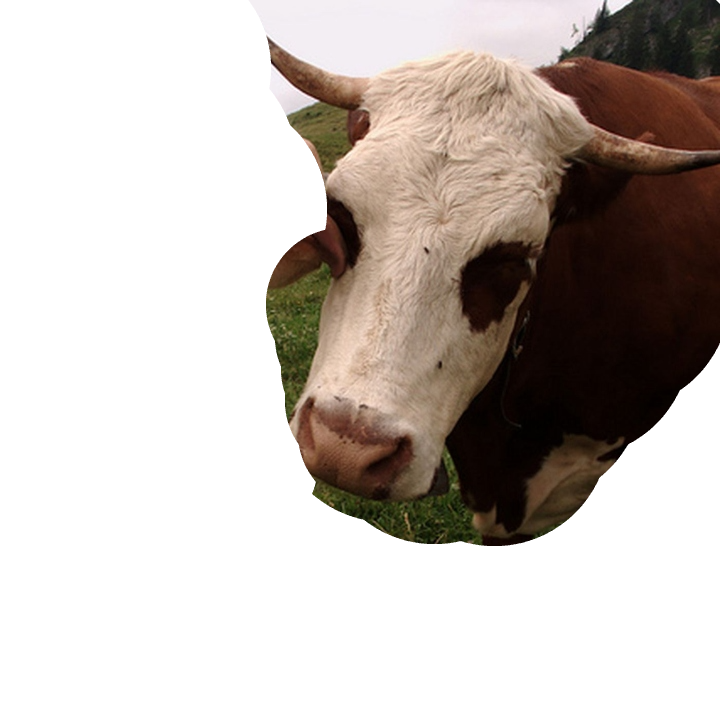Cow: (260, 29, 719, 528)
